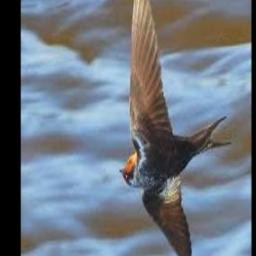Swallow: (119, 0, 231, 256)
